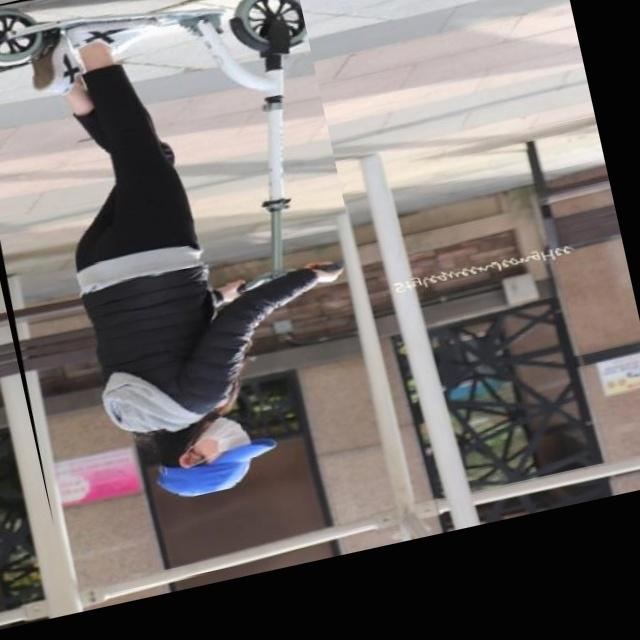bare_head: (148, 422, 286, 516)
human: (62, 37, 340, 508)
kickboard: (1, 0, 324, 81)
